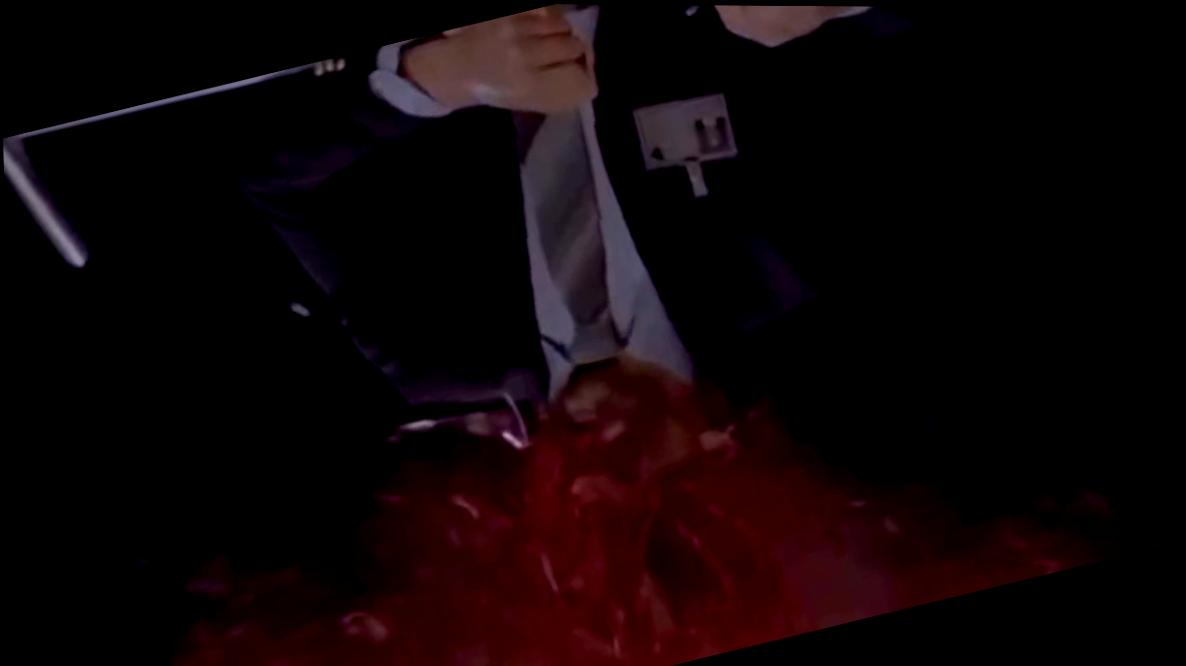Fire: (160, 355, 1112, 666)
